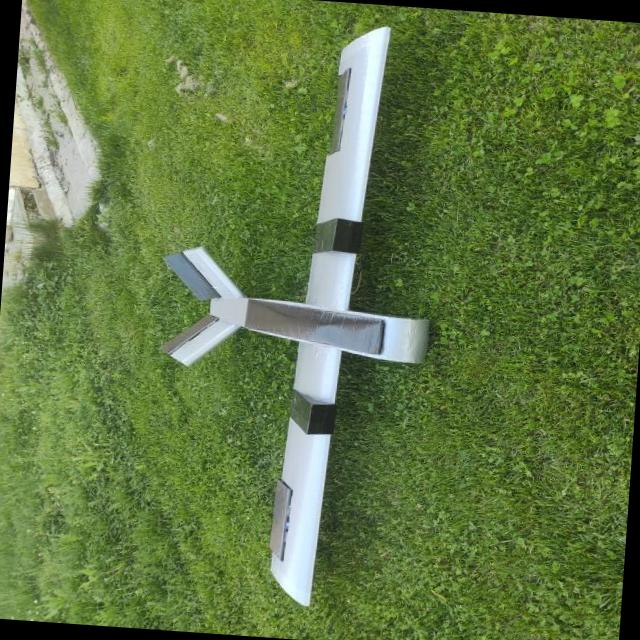UAV: (98, 5, 502, 629)
